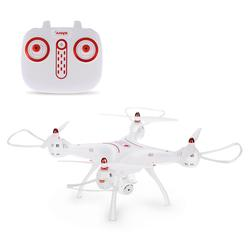drone: (7, 104, 243, 223)
